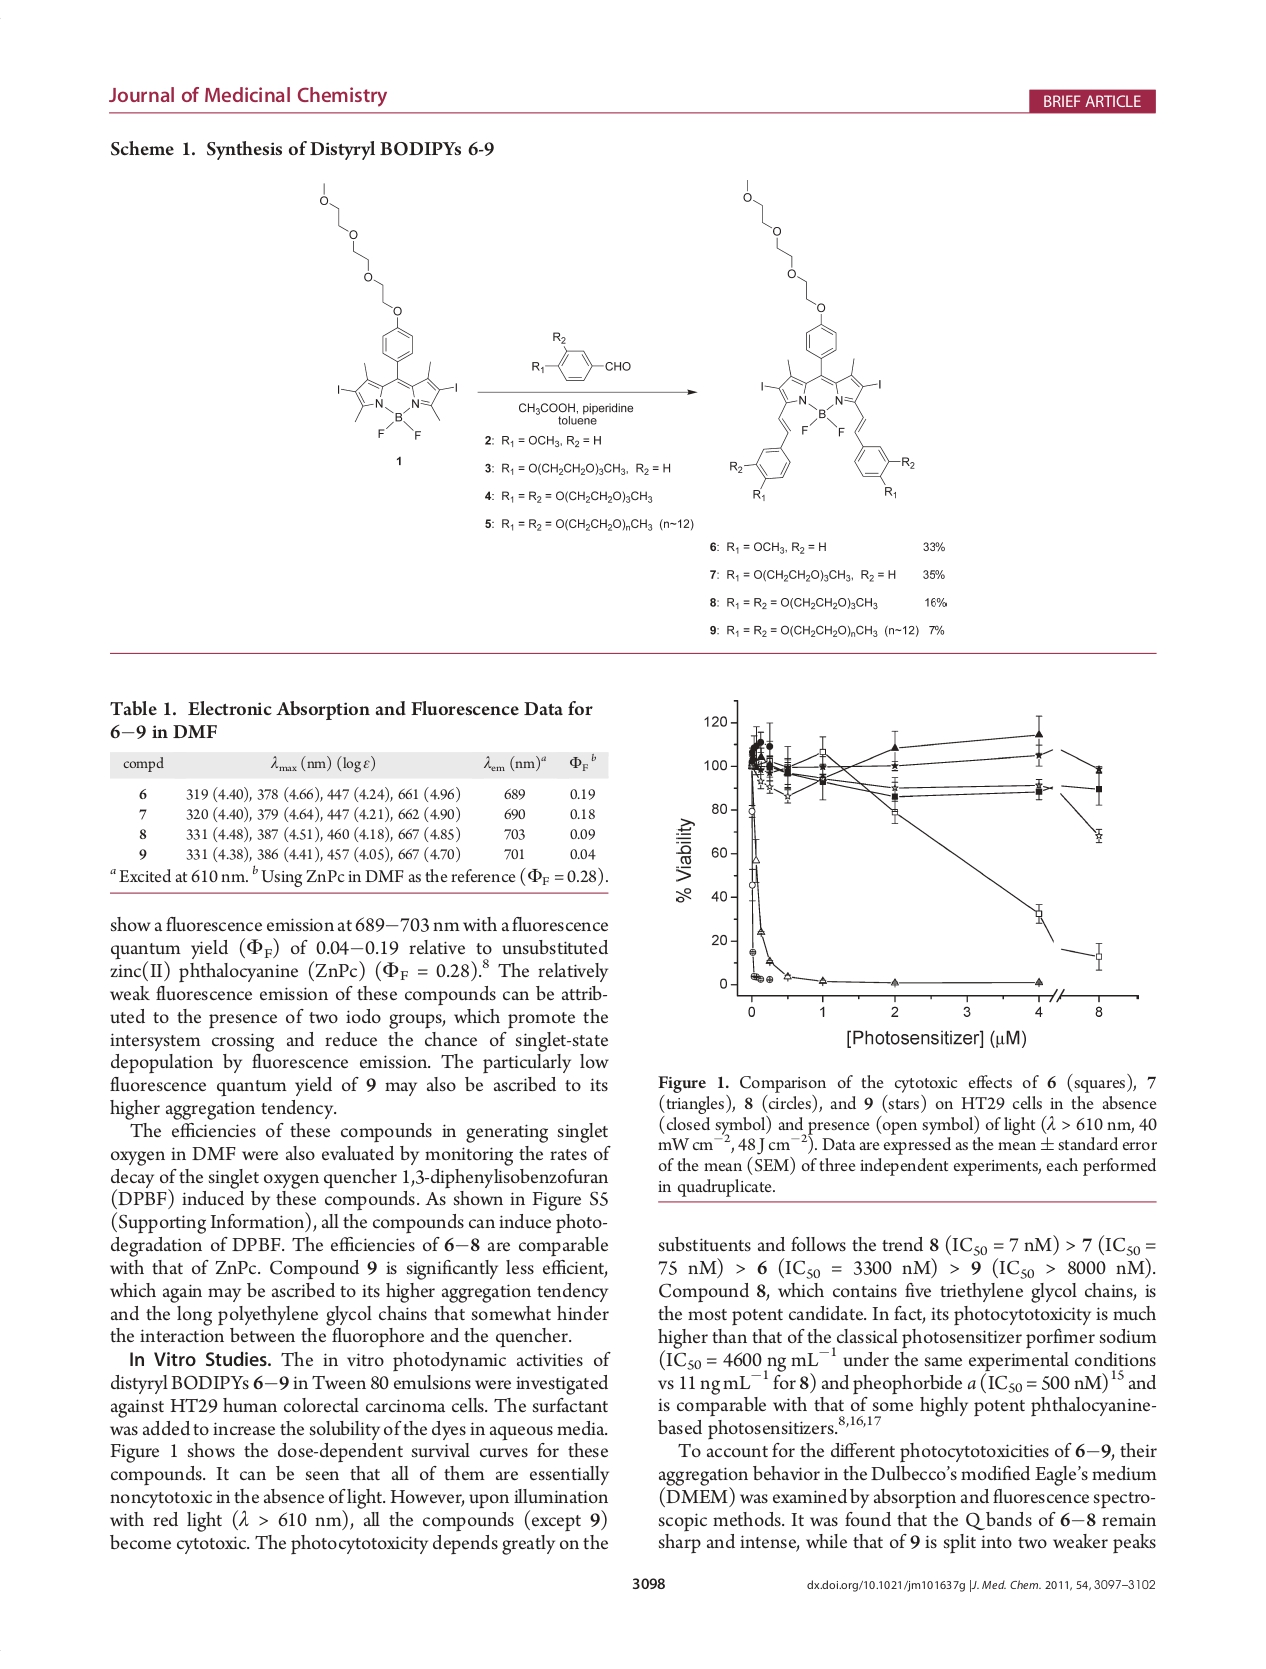exist_molecular: (723, 177, 922, 501), (314, 177, 461, 443), (527, 327, 636, 384)
